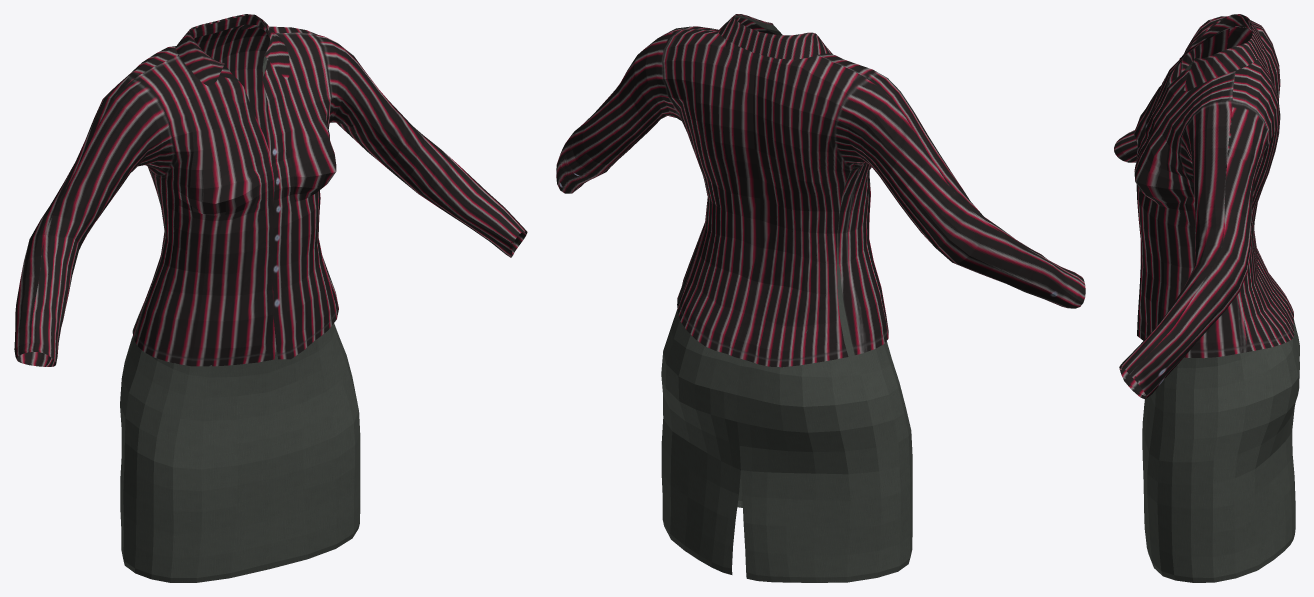
The model's file is garment.glb.
3 renders of one model, left to right at view 1: azimuth 30°, elevation 25°; view 2: azimuth 150°, elevation 25°; view 3: azimuth 270°, elevation 25°, orthographic. The views are drawn at different scales.
Parts seen in each view (by area): view 1: garment; view 2: garment; view 3: garment.
Part boxes in pixels (x1,y1,x2,y2): garment: [14, 14, 527, 582]; garment: [556, 14, 1085, 582]; garment: [1114, 14, 1299, 582].
Size of the model in its own units: 8.92 by 8.61 by 2.87.
Materials: 1 (1 with a texture image).
